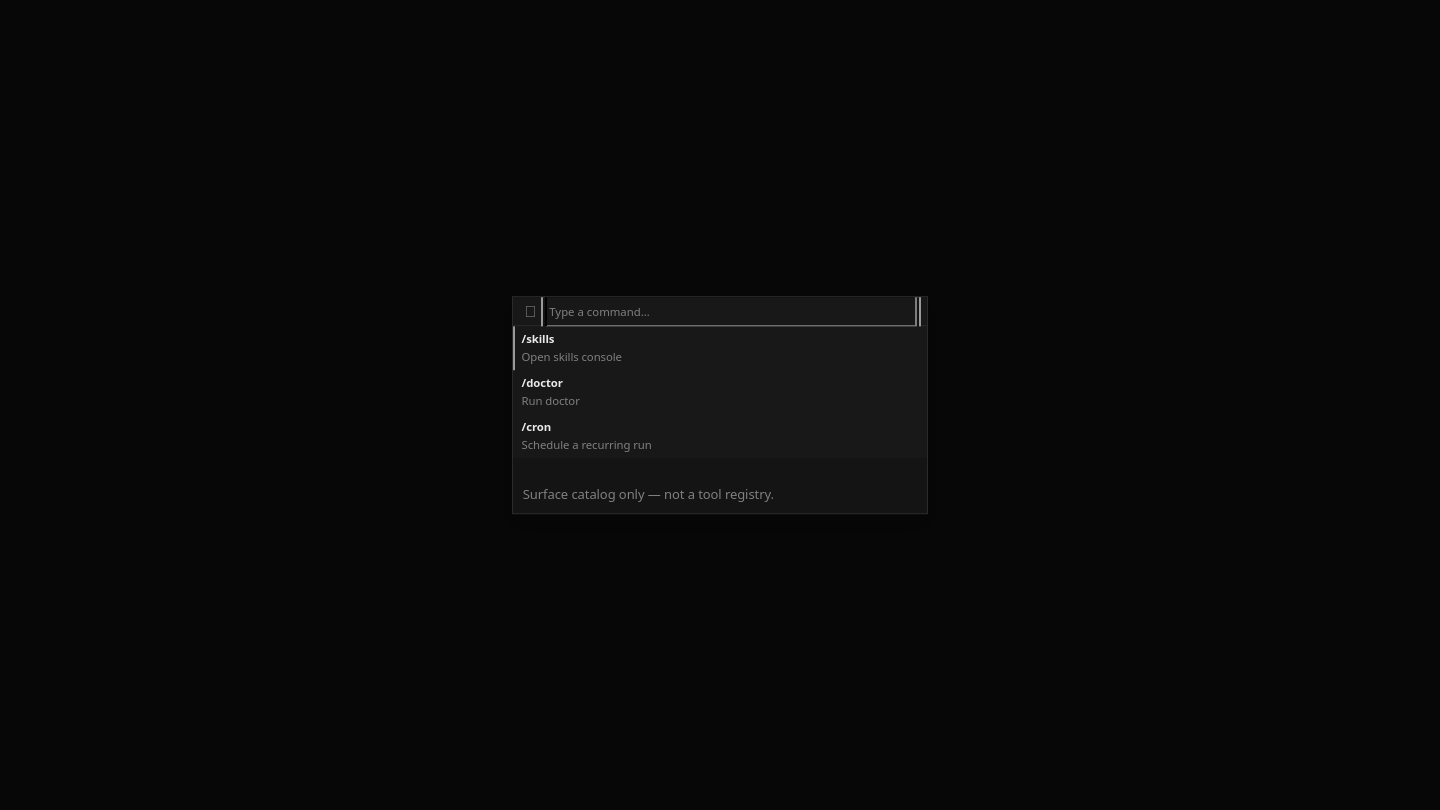
CommandPalette › says so when nothing matches instead of showing an empty box
Expected: the text "/skills" is shown, [522, 331, 554, 348]
Type "zzzz" into the dropdown named "Filter commands" at (731,311), box [545, 295, 917, 328]
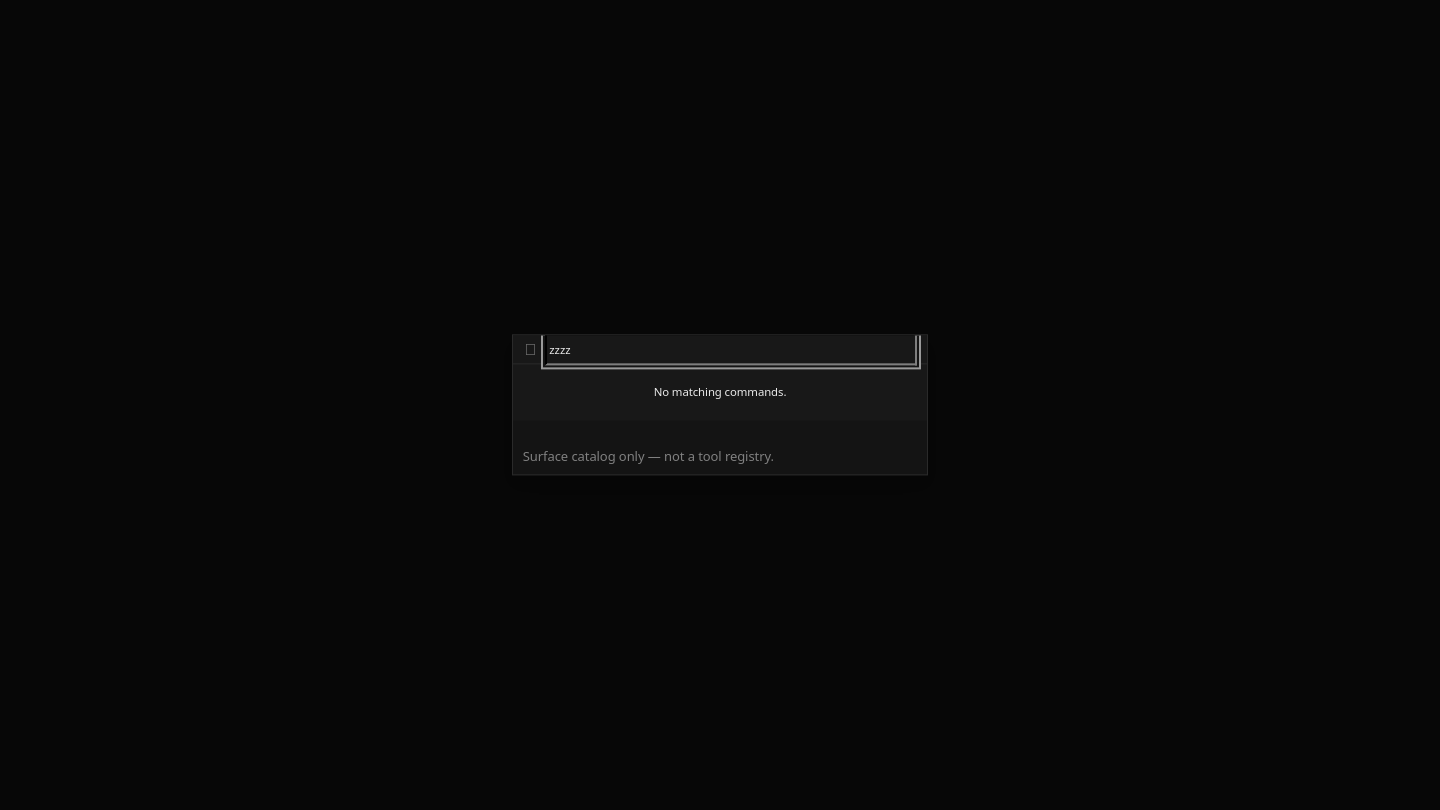
Expected: the text "No matching commands." is shown, [654, 384, 786, 399]
